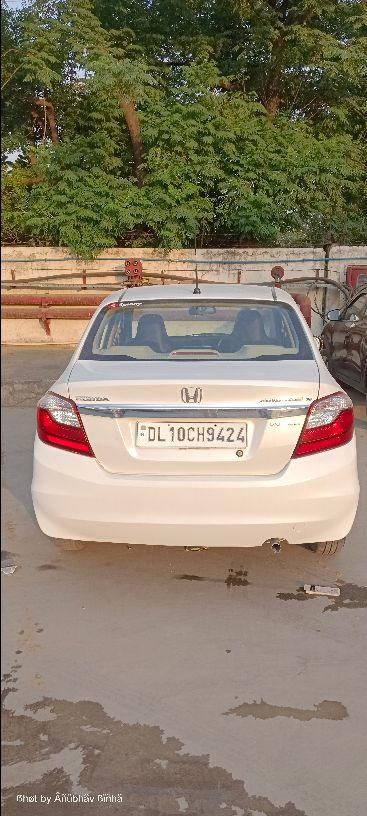license_plate: (134, 419, 248, 449)
